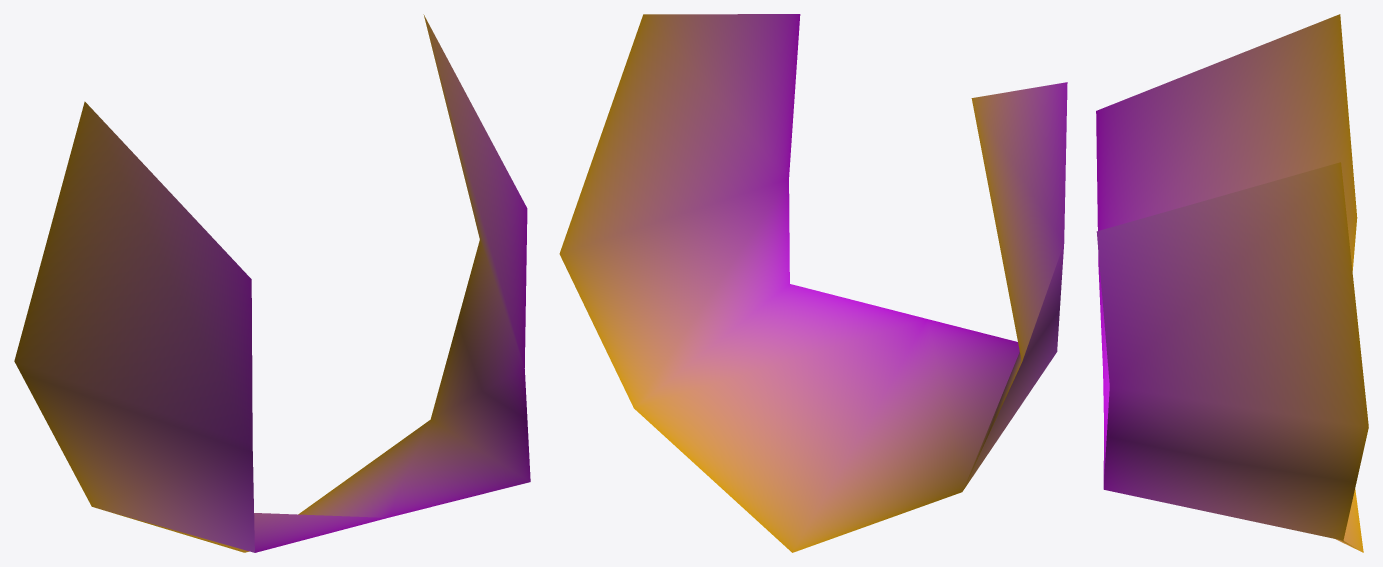
File: pressdpadd.glb
The picture shows the model from 3 angles, left to right: view 1: azimuth 30°, elevation 25°; view 2: azimuth 150°, elevation 25°; view 3: azimuth 270°, elevation 25°; orthographic projection. The views are drawn at different scales.
Visible parts, largest first — view 1: PressDDown; view 2: PressDDown; view 3: PressDDown.
Boxes of the visible parts, x1,y1,x2,y2 form: PressDDown: (14,14,530,552); PressDDown: (559,14,1067,552); PressDDown: (1096,14,1368,552).
Bounding box in the file's own units: 0.2025 × 0.208 × 0.1105.
